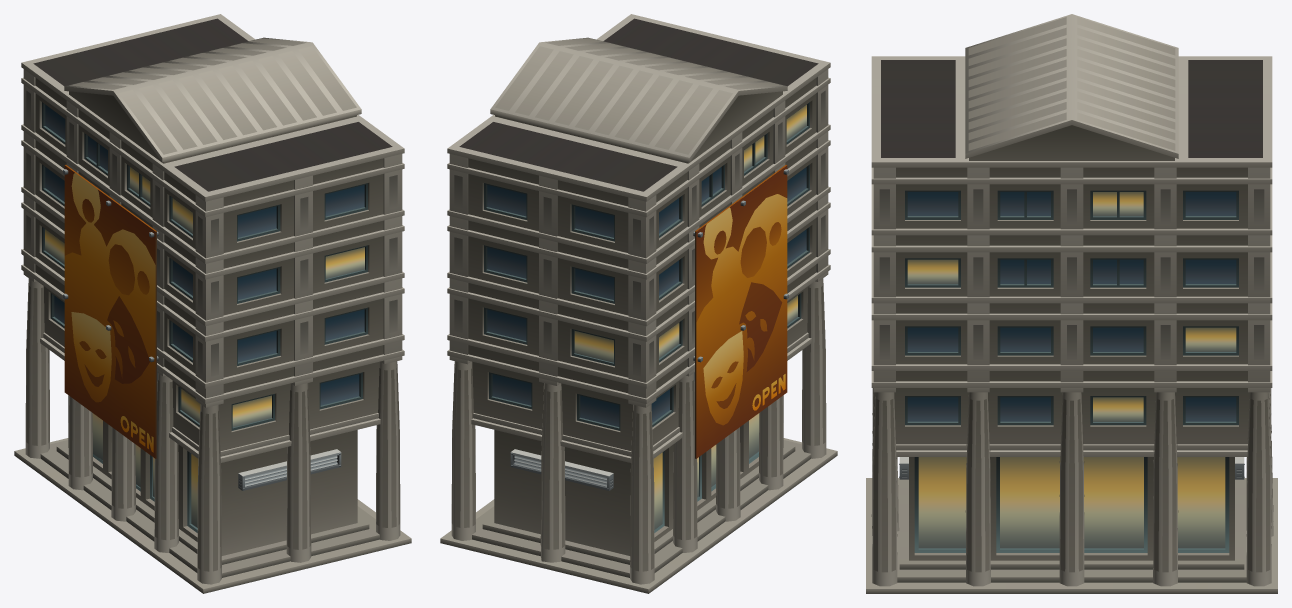
Rendered from Building_13B.fbx.
3 views of the same model, side by side, from view 1: azimuth 30°, elevation 25°; view 2: azimuth 150°, elevation 25°; view 3: azimuth 270°, elevation 25° (orthographic). The views are drawn at different scales.
Parts seen in each view (by area): view 1: Building_13B, Branding_13B, Window_Lights_13B, Air_Conditioner_13B; view 2: Building_13B, Branding_13B, Window_Lights_13B, Air_Conditioner_13B; view 3: Building_13B, Window_Lights_13B.
Part boxes in pixels (x1,y1,x2,y2): Building_13B: (14, 14, 411, 593); Branding_13B: (63, 165, 158, 458); Window_Lights_13B: (45, 167, 364, 527); Air_Conditioner_13B: (238, 449, 341, 490); Building_13B: (440, 14, 837, 593); Branding_13B: (693, 165, 788, 458); Window_Lights_13B: (574, 104, 806, 529); Air_Conditioner_13B: (510, 449, 613, 490); Building_13B: (866, 14, 1277, 593); Window_Lights_13B: (907, 192, 1236, 548).
Size of the model in its own units: 1412 by 2780 by 2200.
